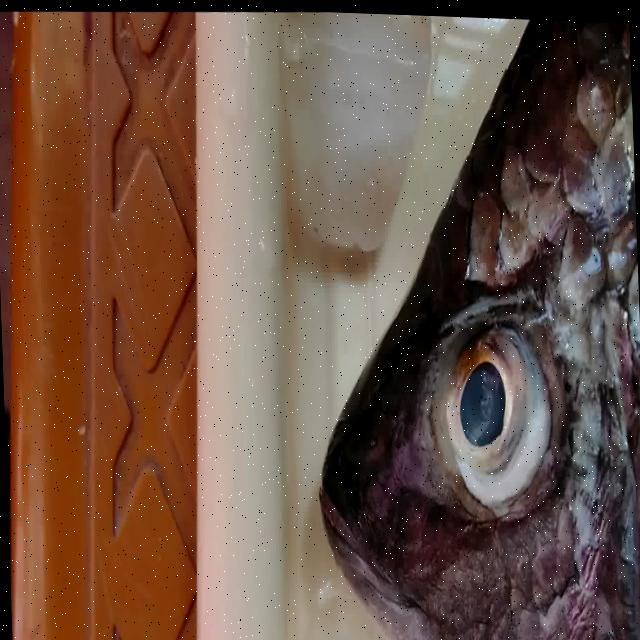Fresh: (416, 251, 570, 551)
